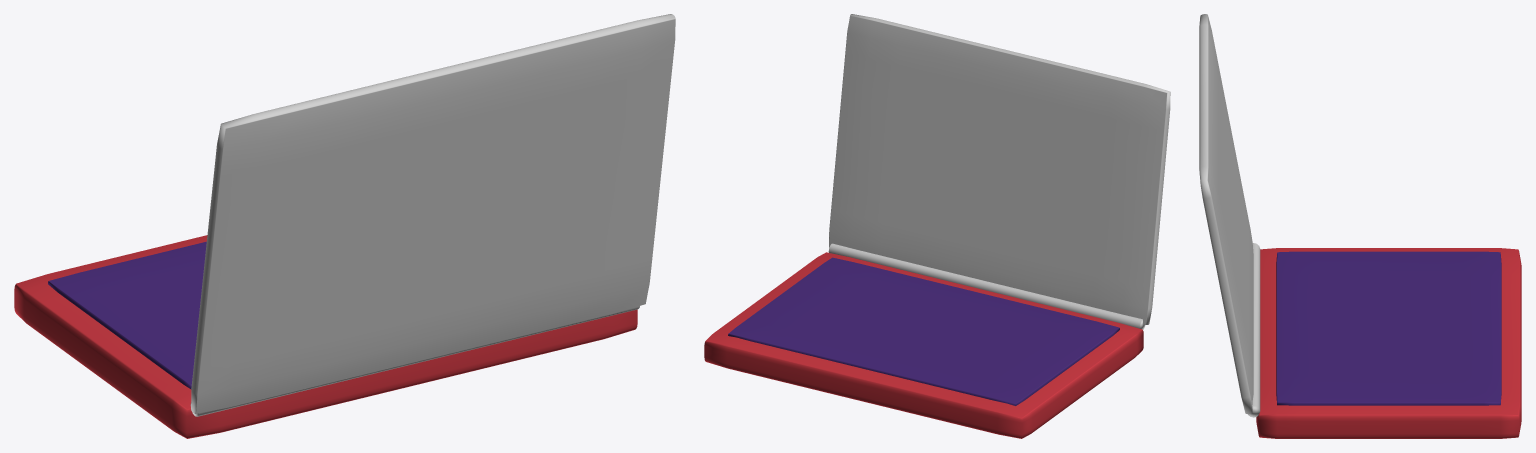
File: StampOutInkPad.obj
3 renders of one model, left to right at view 1: azimuth 30°, elevation 25°; view 2: azimuth 150°, elevation 25°; view 3: azimuth 270°, elevation 25°, orthographic. The views are drawn at different scales.
Visible parts, largest first — view 1: Lid, Tin, Felt, Hinge; view 2: Lid, Felt, Tin, Hinge; view 3: Felt, Tin, Lid, Hinge.
Boxes of the visible parts, x1=… form: Lid: x1=191, y1=14, x2=675, y2=413; Tin: x1=14, y1=235, x2=637, y2=438; Felt: x1=48, y1=241, x2=206, y2=389; Hinge: x1=190, y1=306, x2=639, y2=416; Lid: x1=829, y1=14, x2=1170, y2=324; Felt: x1=728, y1=257, x2=1119, y2=405; Tin: x1=704, y1=252, x2=1143, y2=438; Hinge: x1=828, y1=243, x2=1145, y2=329; Felt: x1=1276, y1=251, x2=1501, y2=405; Tin: x1=1256, y1=248, x2=1521, y2=438; Lid: x1=1199, y1=14, x2=1253, y2=413; Hinge: x1=1247, y1=243, x2=1260, y2=417.
Size of the model in its own units: 30 by 21.81 by 24.29.
